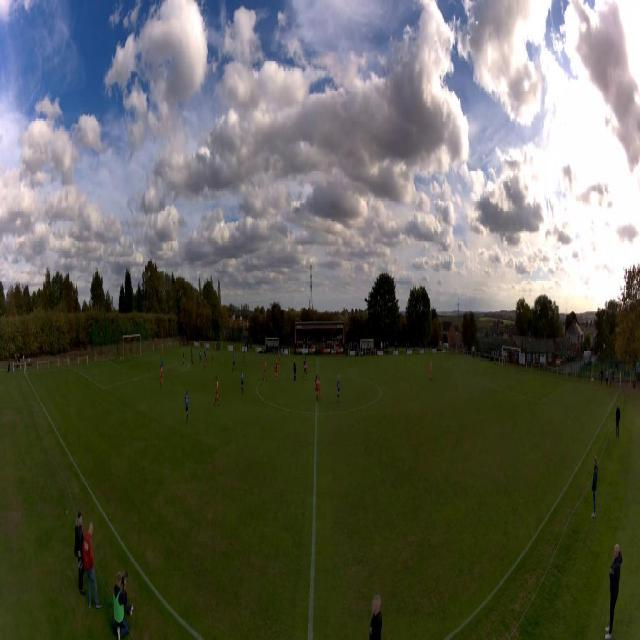ball: (222, 359, 223, 361)
player: (214, 376, 220, 407), (185, 390, 190, 422), (241, 367, 245, 395), (315, 375, 319, 402), (336, 375, 340, 402), (303, 357, 308, 377), (263, 359, 267, 381), (160, 364, 163, 390), (318, 376, 321, 402), (232, 353, 236, 372), (293, 358, 296, 383), (275, 359, 278, 381), (243, 348, 246, 363), (430, 359, 432, 380), (303, 353, 305, 374), (191, 347, 193, 365), (203, 351, 205, 369), (199, 349, 201, 366), (183, 348, 185, 365), (278, 350, 280, 366), (162, 343, 164, 359), (161, 356, 163, 372), (205, 347, 207, 362), (212, 347, 213, 363)
